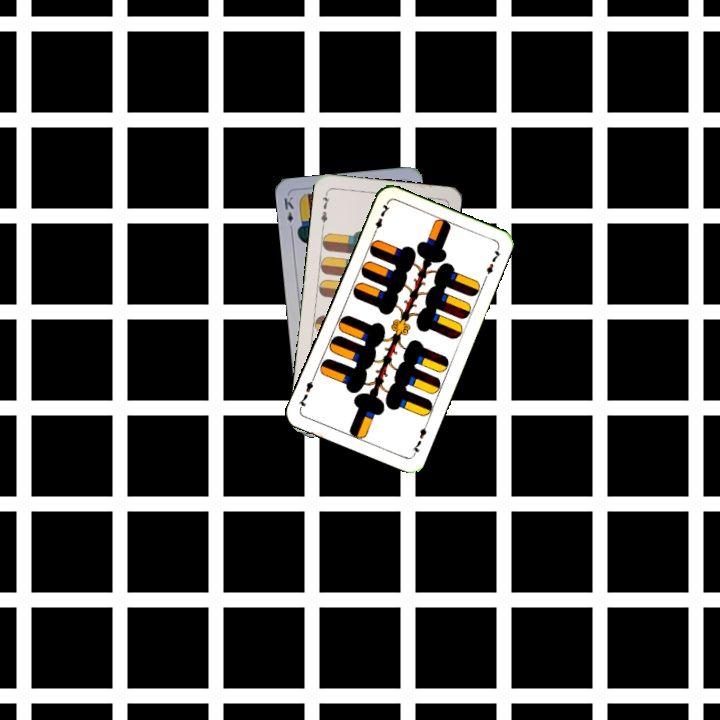E7: (369, 199, 393, 238), (408, 419, 431, 458), (317, 188, 332, 229)
EK: (280, 192, 296, 233)
